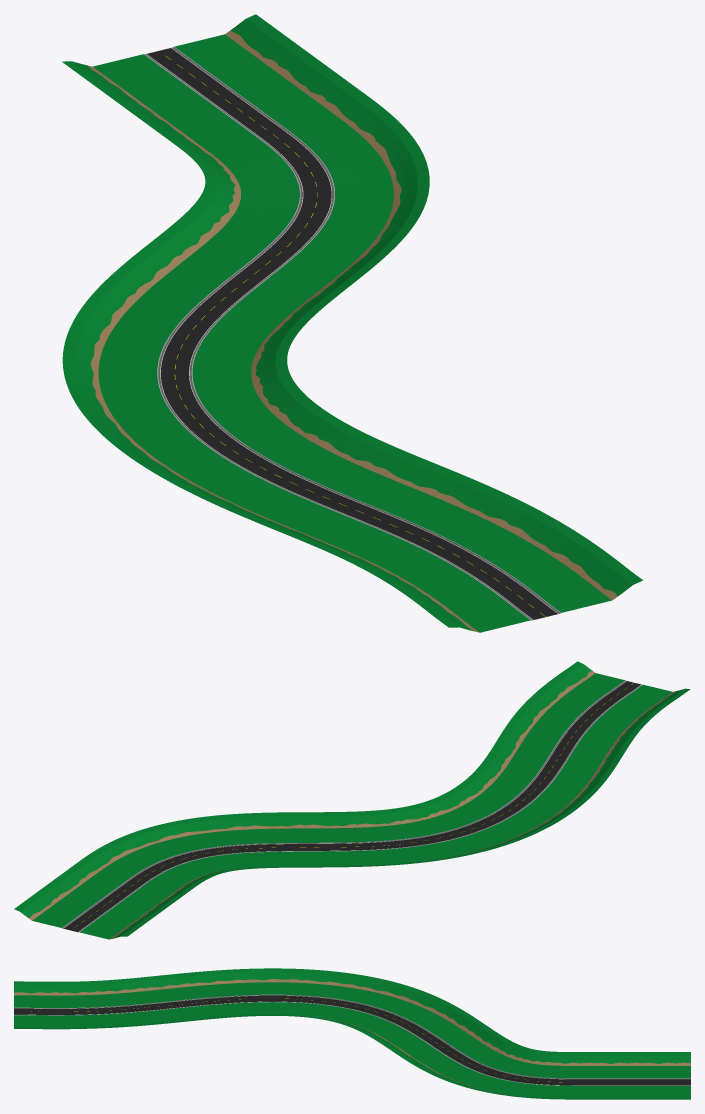
The model's file is HighWay-08.fbx.
3 renders of one model, top to bottom at view 1: azimuth 30°, elevation 25°; view 2: azimuth 150°, elevation 25°; view 3: azimuth 270°, elevation 25°, orthographic. The views are drawn at different scales.
Parts seen in each view (by area): view 1: HW-01; view 2: HW-01; view 3: HW-01.
Part boxes in pixels (bbox=[...]): HW-01: bbox=[62, 14, 642, 632]; HW-01: bbox=[14, 661, 690, 939]; HW-01: bbox=[14, 968, 690, 1099].
Size of what is drawn, in the model's own units: 263 by 7.83 by 567.
